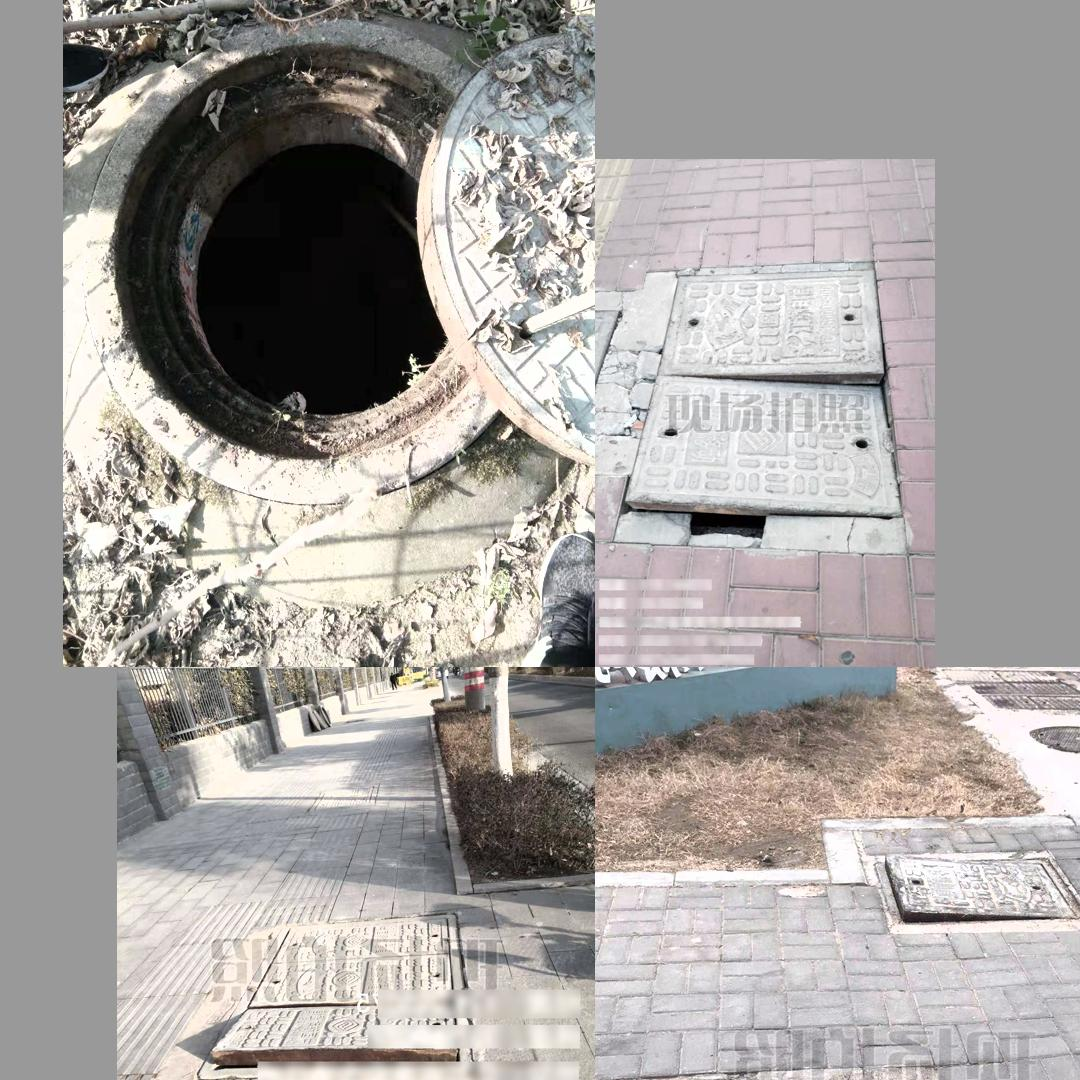good: (1027, 725, 1080, 752)
uncovered: (84, 20, 590, 508), (618, 261, 904, 533), (197, 914, 480, 1080), (873, 854, 1080, 932)
